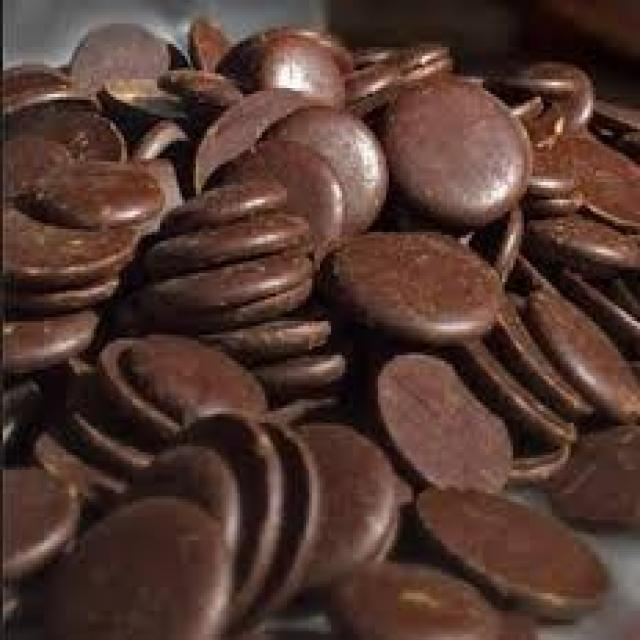Chocolate: (11, 87, 618, 614)
